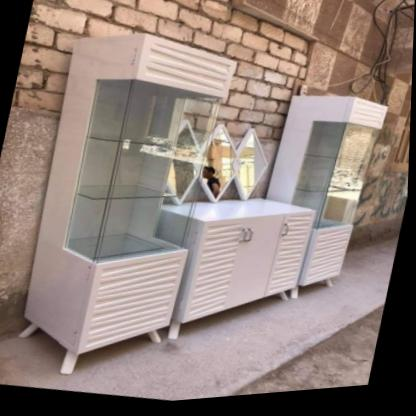Cupboard: (21, 35, 389, 377)
